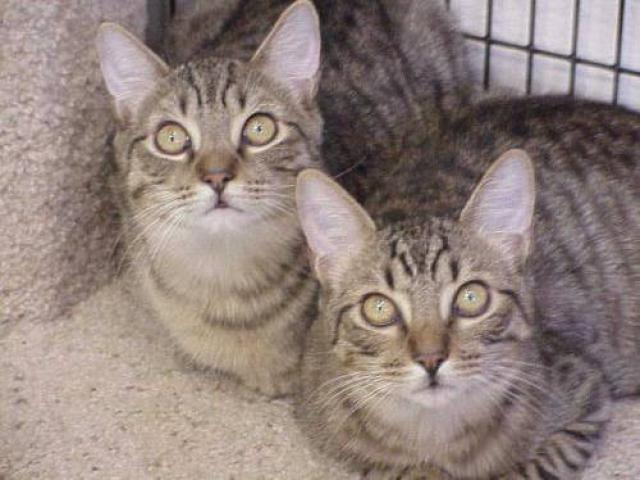cat: (87, 1, 638, 480)
